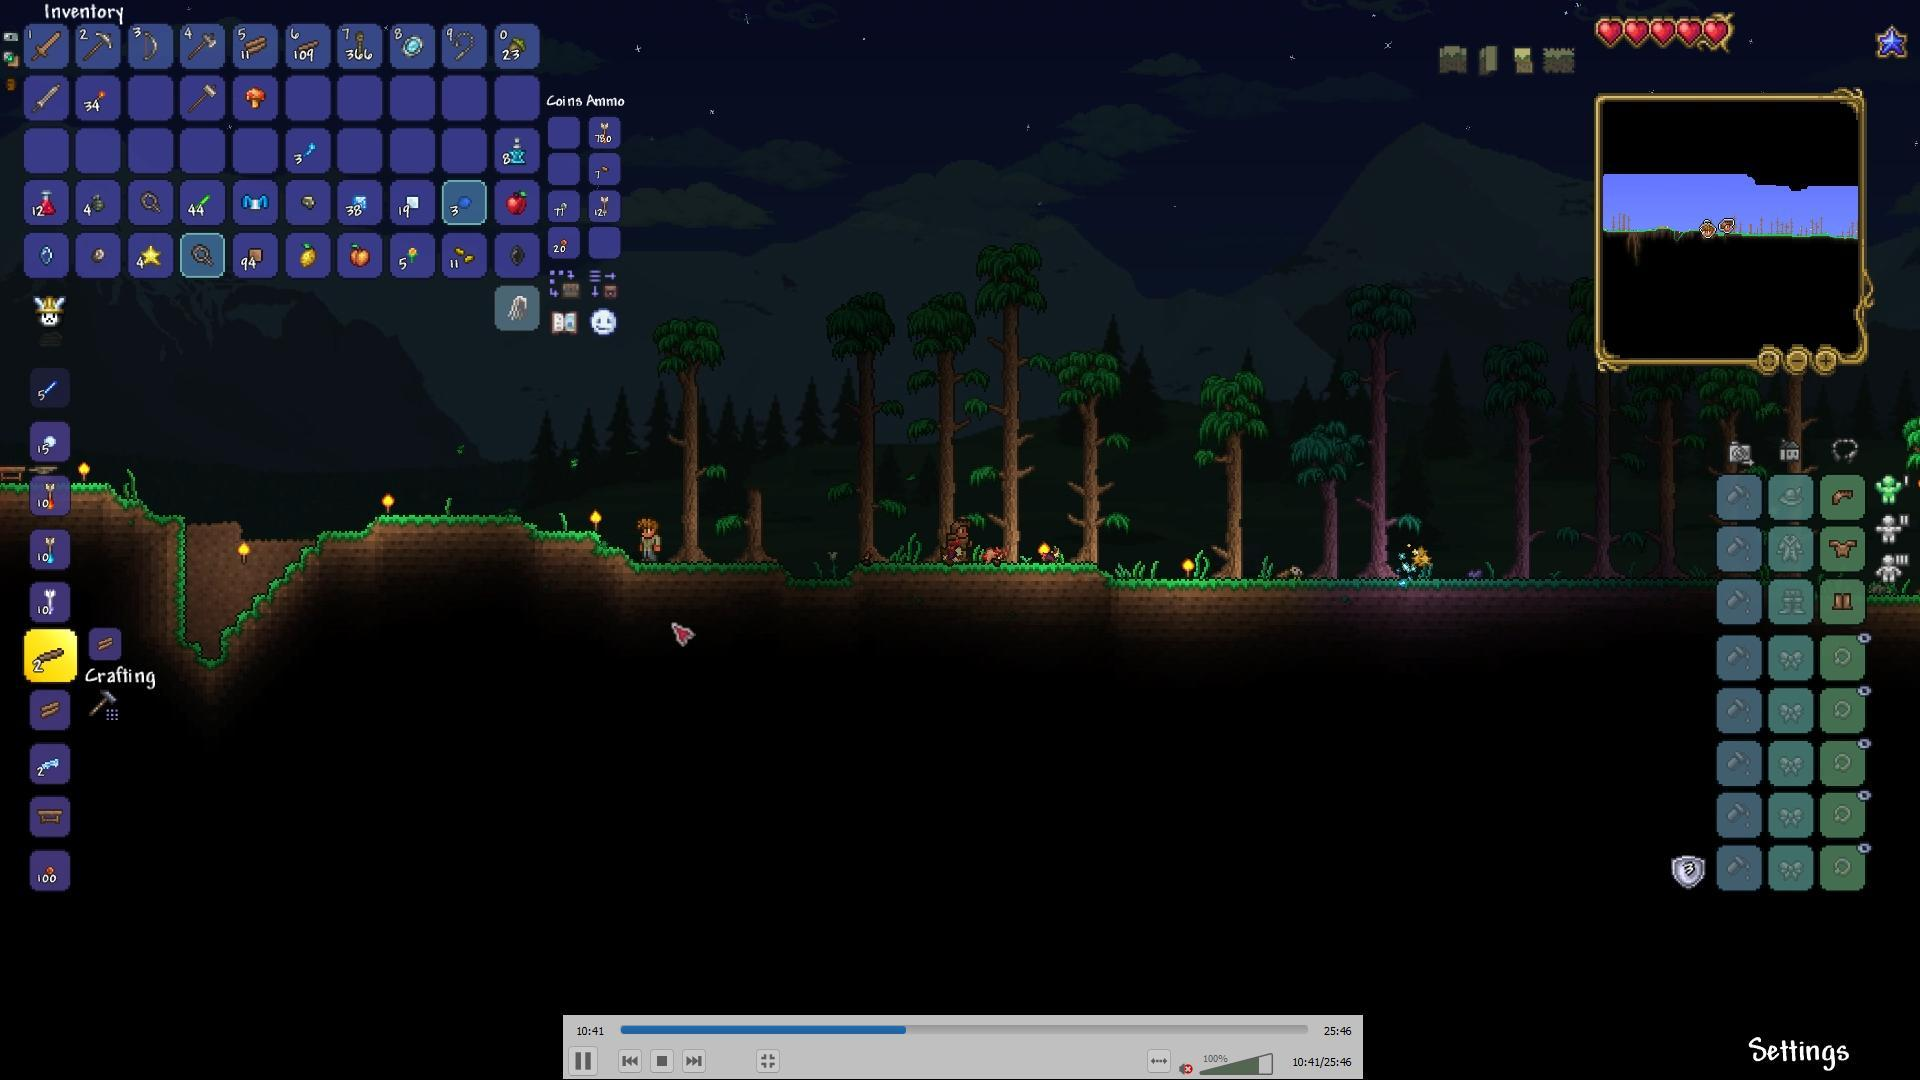potion: (37, 187, 58, 218)
recallP: (504, 132, 530, 171)
star: (137, 243, 166, 270)
